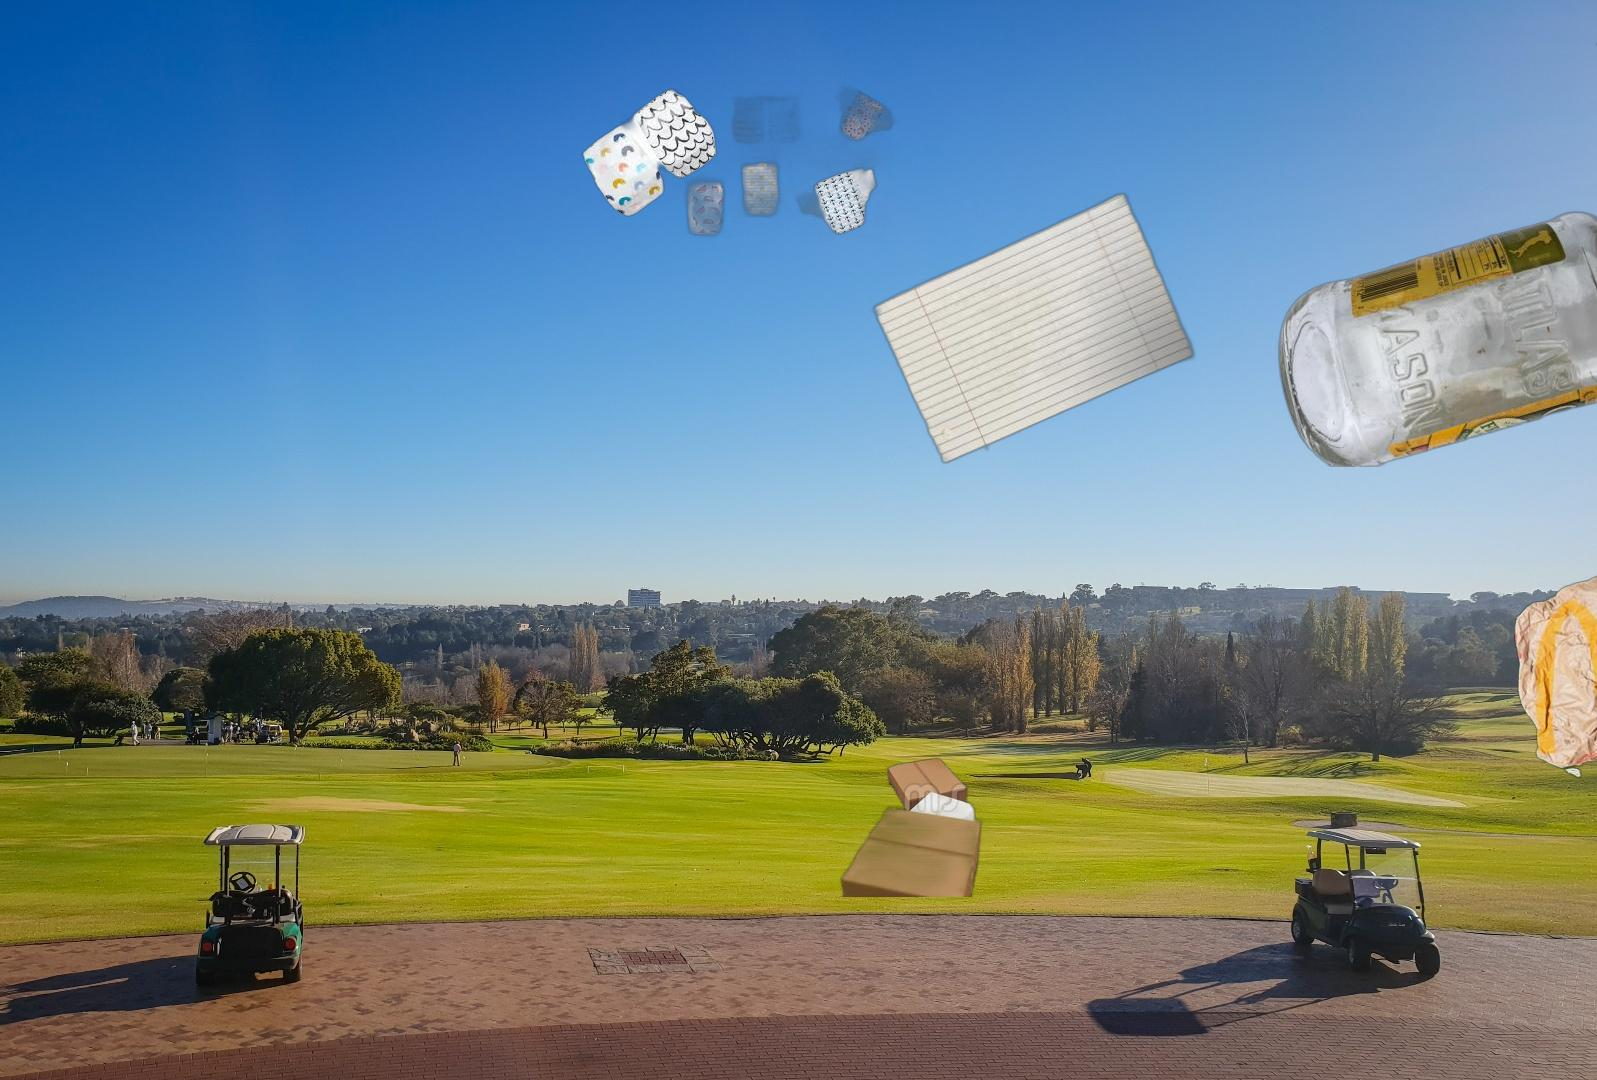glass: (1275, 200, 1597, 467)
paper: (869, 190, 1199, 467)
paper-bag: (1507, 568, 1597, 780)
trash: (581, 82, 899, 241)
trashbox-cardboard: (838, 709, 993, 897), (1596, 15, 1597, 186)
